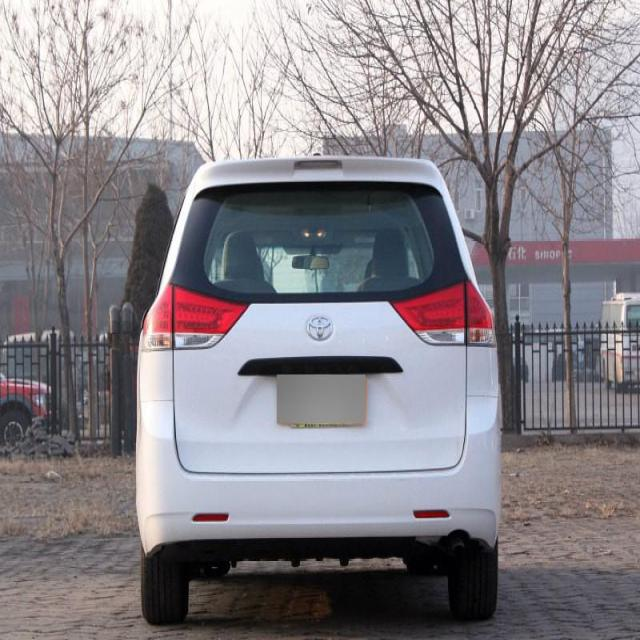back_glass: (187, 179, 441, 299)
back_left_side_light: (139, 280, 251, 354)
back_right_side_light: (389, 274, 498, 348)
rear_bumper: (133, 391, 505, 560)
